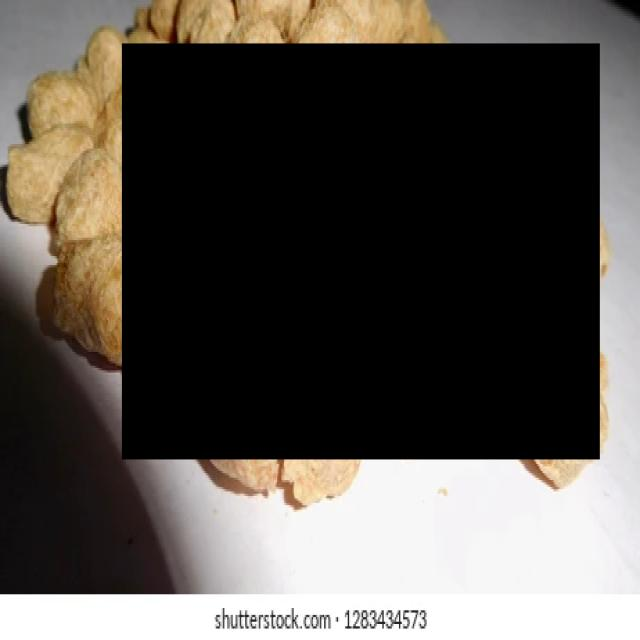Nutrela: (122, 46, 600, 461)
